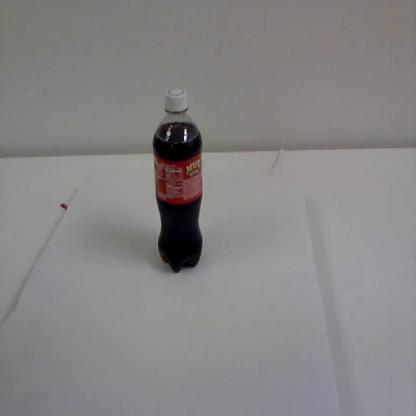bottle: (152, 88, 204, 273)
